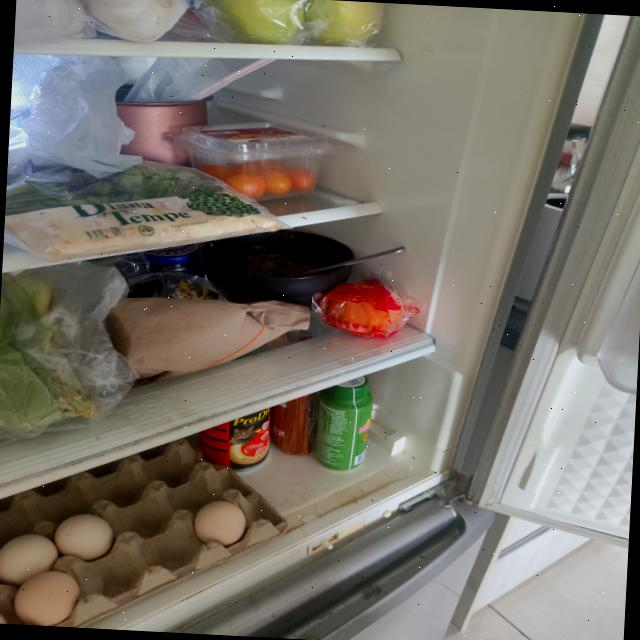apple: (200, 0, 383, 49)
egg: (0, 427, 292, 638)
garlic: (14, 0, 191, 44)
orange: (326, 280, 406, 338)
pakchoy: (0, 271, 105, 440)
tempeh: (2, 181, 284, 274)
